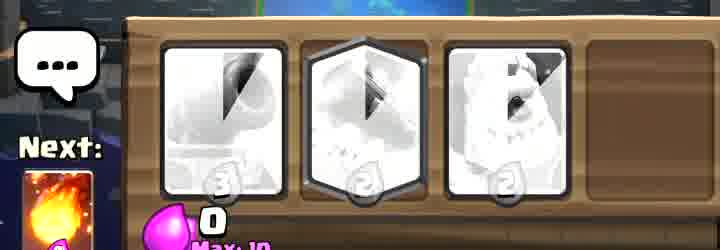fireball: (24, 172, 92, 250)
